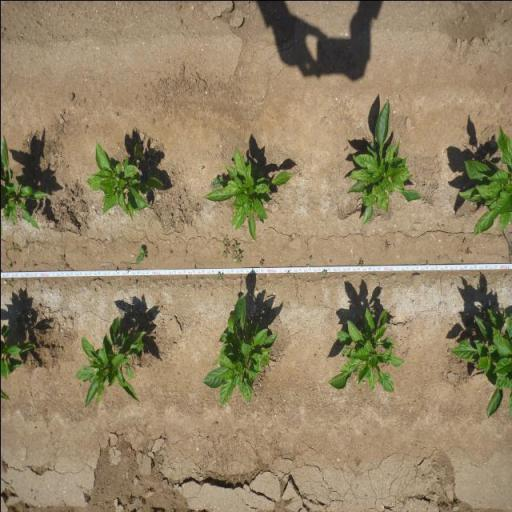plant: (345, 96, 425, 226), (199, 144, 292, 243), (202, 290, 278, 410), (442, 299, 512, 423), (73, 310, 149, 415), (326, 303, 406, 397), (82, 136, 164, 224), (455, 122, 512, 238), (0, 130, 50, 232), (0, 323, 34, 380)
weed: (220, 235, 242, 264), (134, 246, 148, 266), (206, 175, 224, 189), (7, 241, 21, 254), (462, 246, 472, 256), (383, 239, 390, 250), (216, 271, 223, 280), (258, 256, 264, 266), (59, 252, 65, 262), (287, 234, 294, 242), (320, 268, 326, 276), (284, 270, 290, 278), (358, 257, 363, 266), (6, 263, 12, 269), (462, 236, 466, 244), (126, 266, 130, 272), (308, 254, 312, 260)
